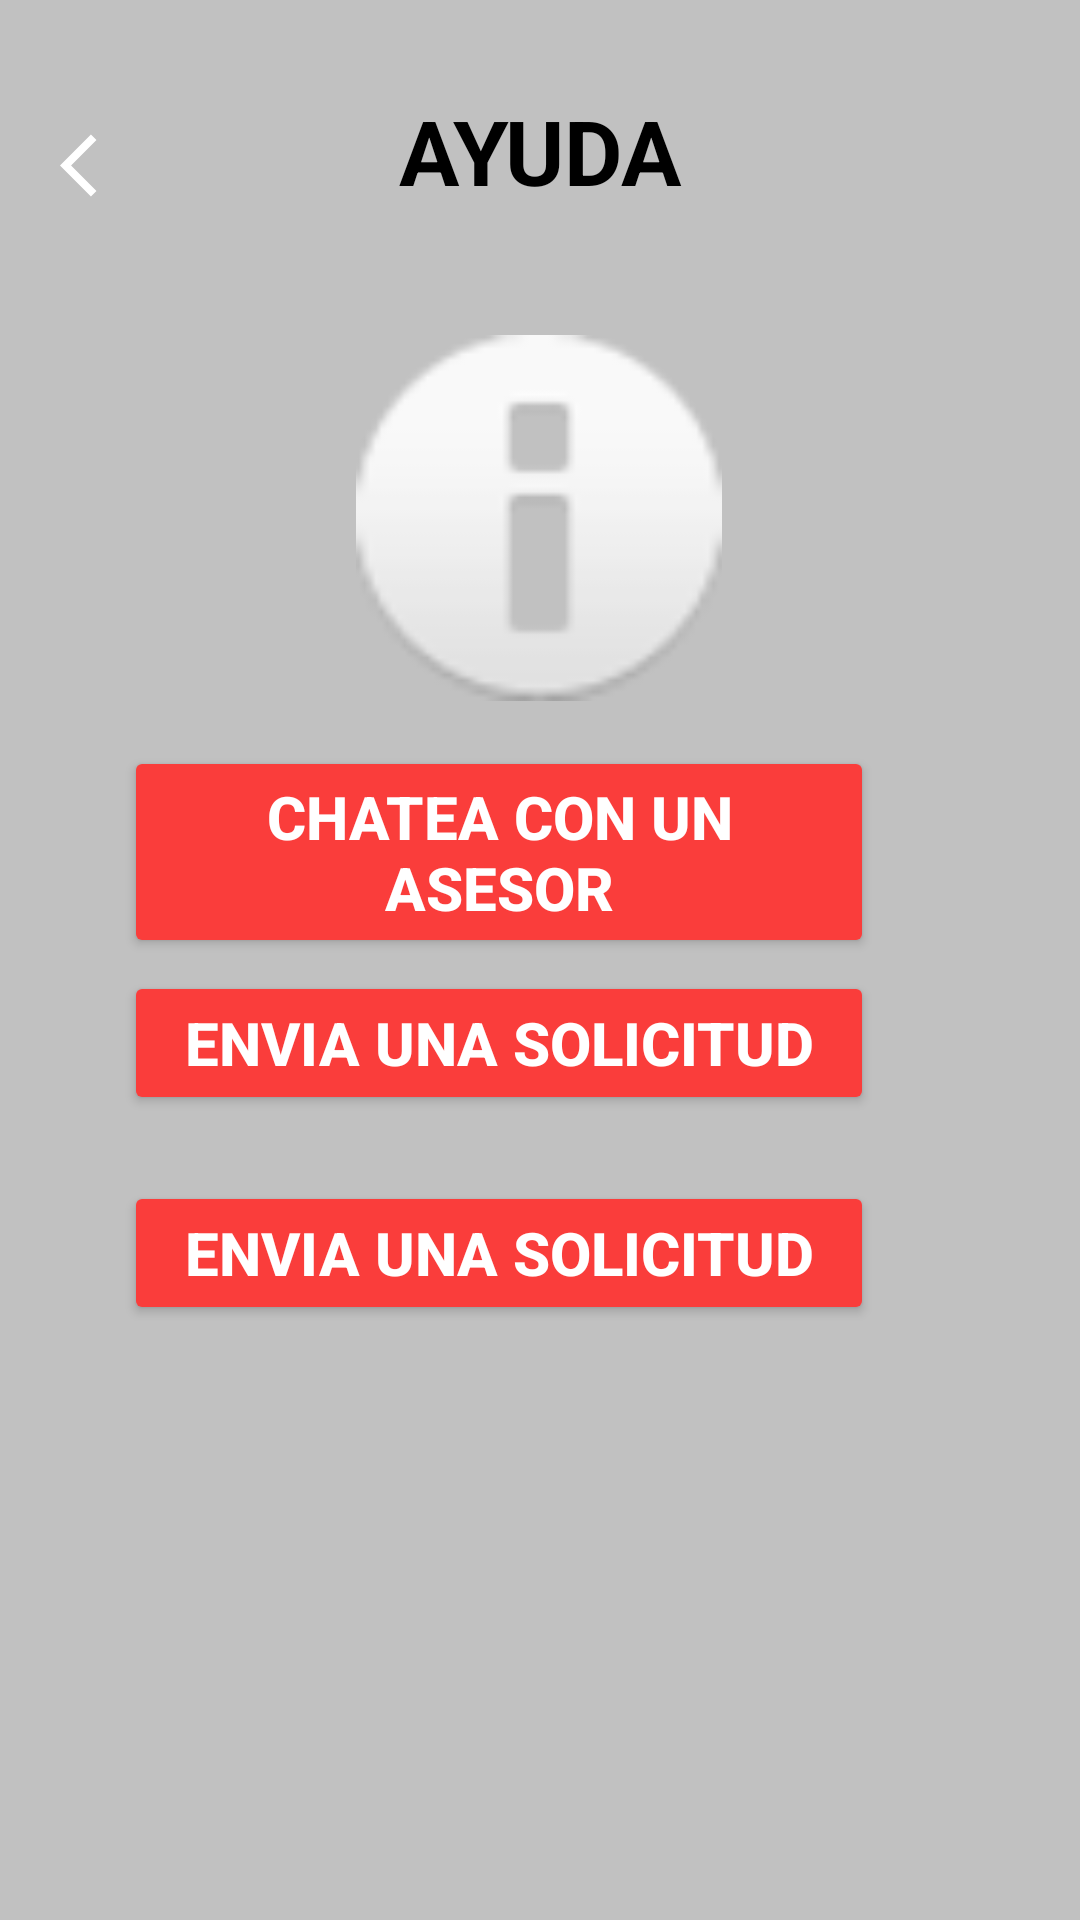

Point at icon controls on the screen. Image size 1080 x 1920, points as (x=x, y=y).
arrow back: (x=78, y=165)
